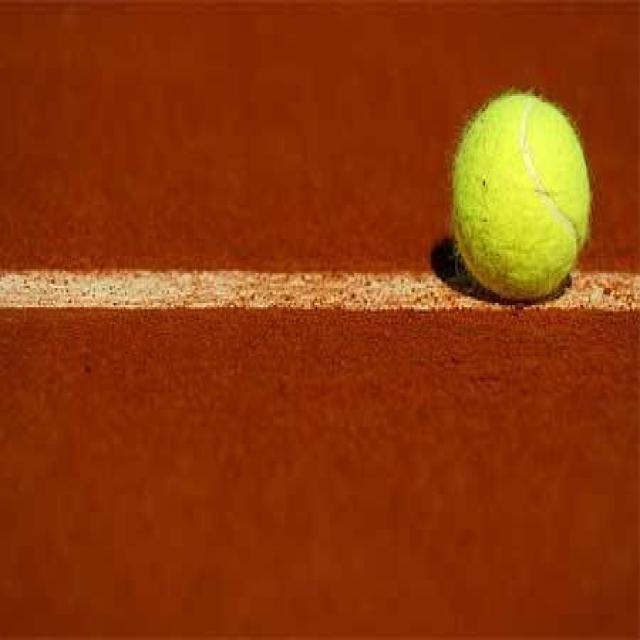ball: (450, 89, 592, 302)
